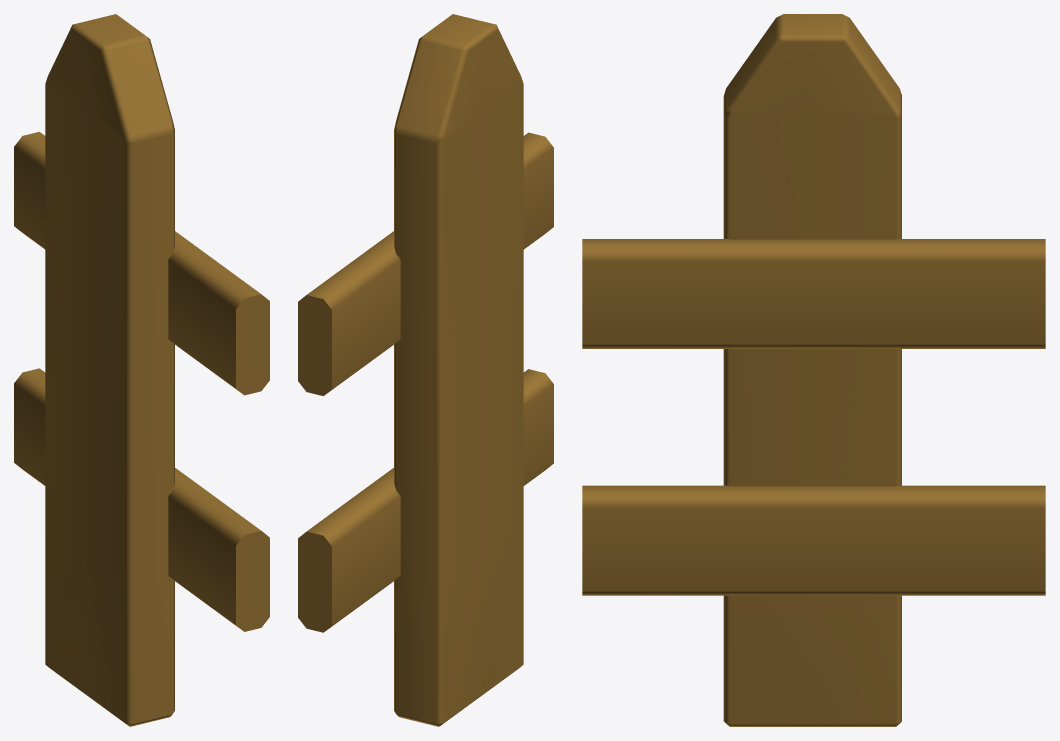
File: zabor.fbx
3 renders of one model, left to right at view 1: azimuth 30°, elevation 25°; view 2: azimuth 150°, elevation 25°; view 3: azimuth 270°, elevation 25°, orthographic. The views are drawn at different scales.
Visible parts, largest first — view 1: polySurface14; view 2: polySurface14; view 3: polySurface14.
Boxes of the visible parts, x1,y1,x2,y2 form: polySurface14: (14,14,269,726); polySurface14: (298,14,553,726); polySurface14: (582,14,1045,726).
Bounding box in the file's own units: 69.11 × 589 × 357.
